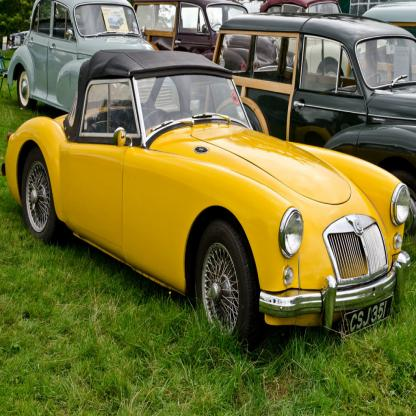Car: (2, 46, 416, 349), (190, 9, 416, 206), (7, 1, 181, 116), (98, 1, 298, 78)
